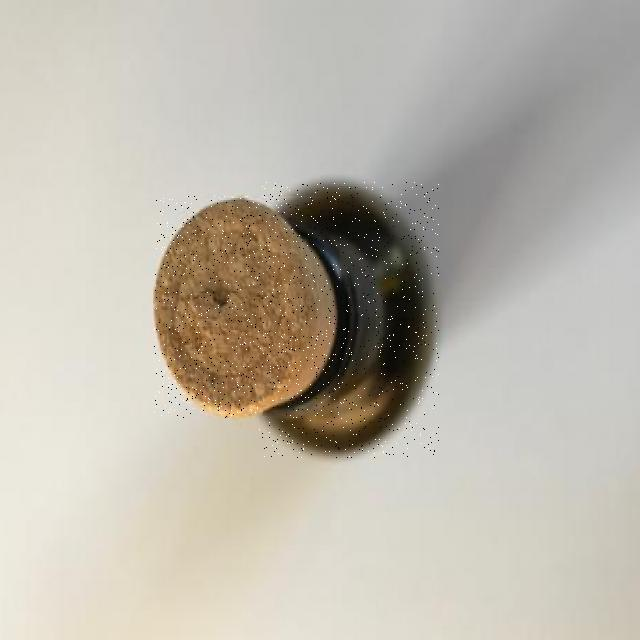glass: (260, 182, 439, 458)
paper: (153, 196, 339, 417)
